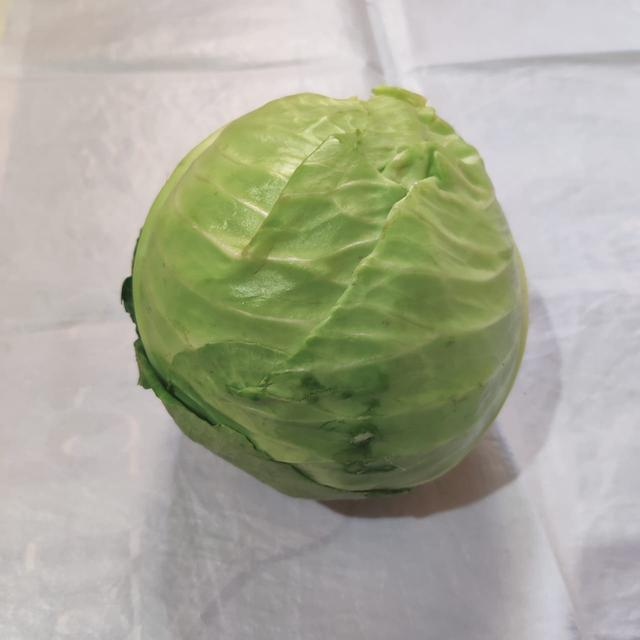Organik: (82, 42, 560, 547)
